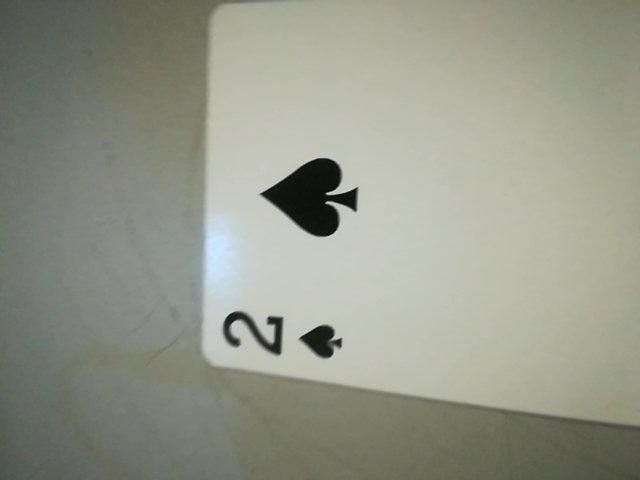ht 2: (203, 298, 364, 378)
